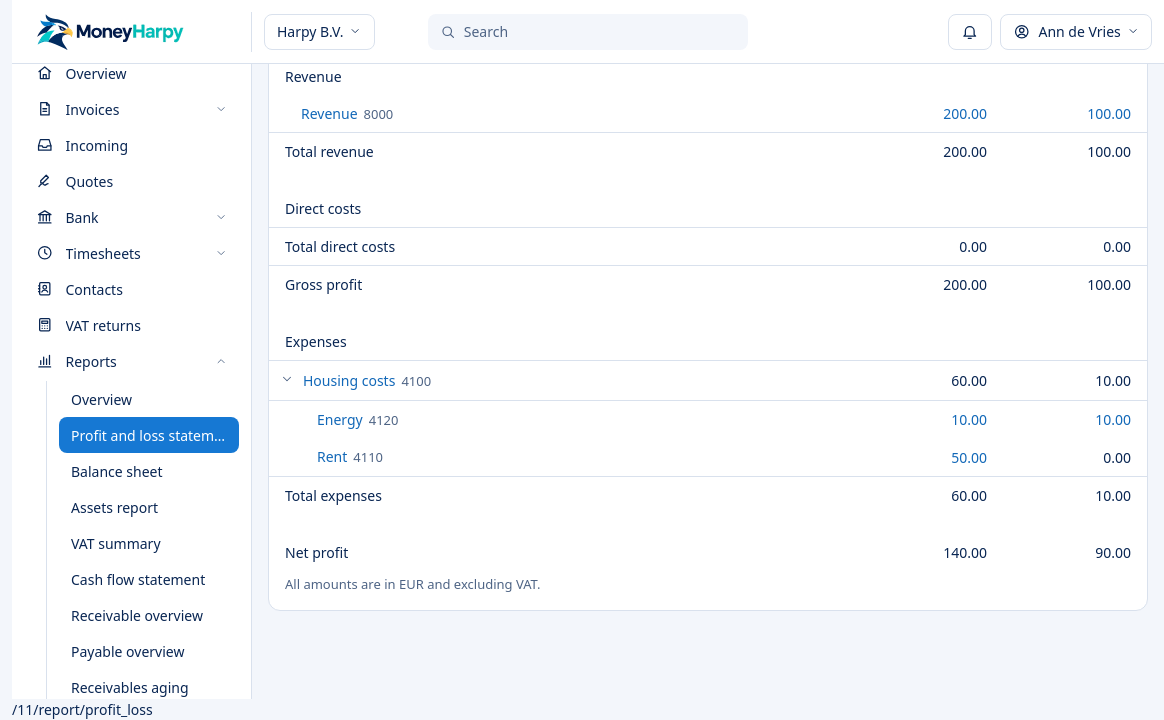
Test: reports › shows the profit and loss statement per month, categories under their top category
(page scrolled)
Expected: the row "Revenue 8000 200.00 100.00" is shown, [269,95,1147,133]
Expected: the row "Housing costs 4100 60.00 10.00" is shown, [269,361,1147,400]
Step 1. Click the button named "Collapse Housing costs" → (287, 379), box [277,369,297,389]
(page scrolled)
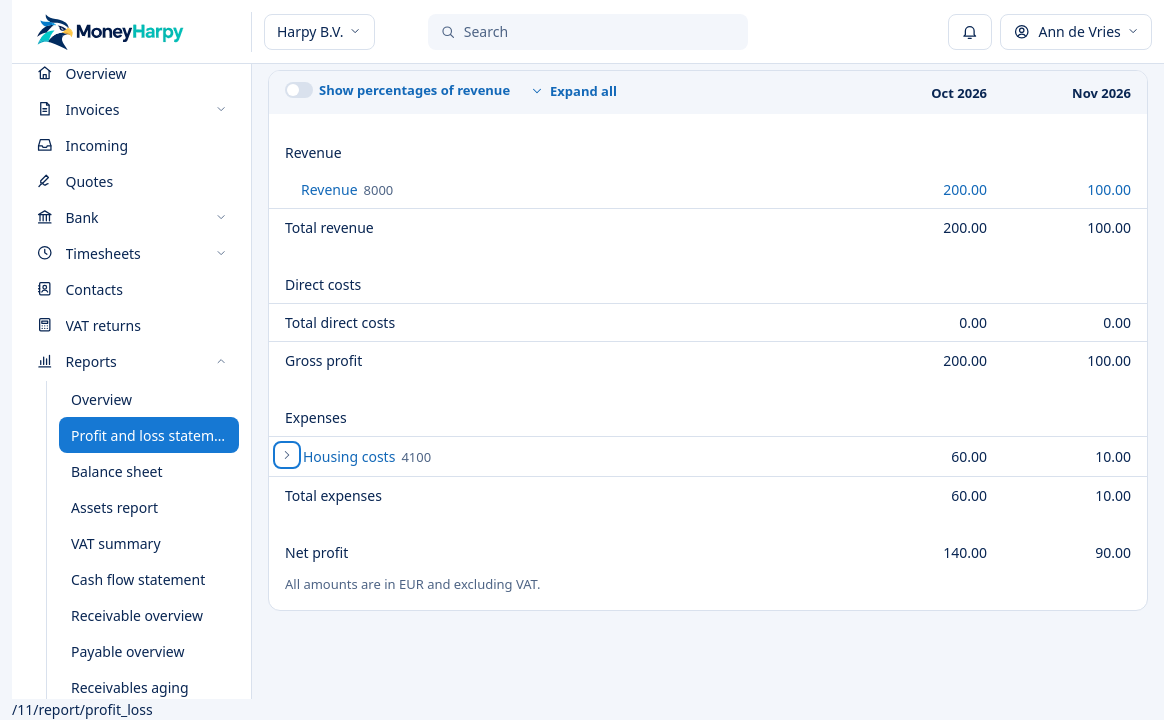
Expected: the link "Rent" is gone
Step 2. Click the button "Expand all" → (574, 91), box [530,82,617,101]
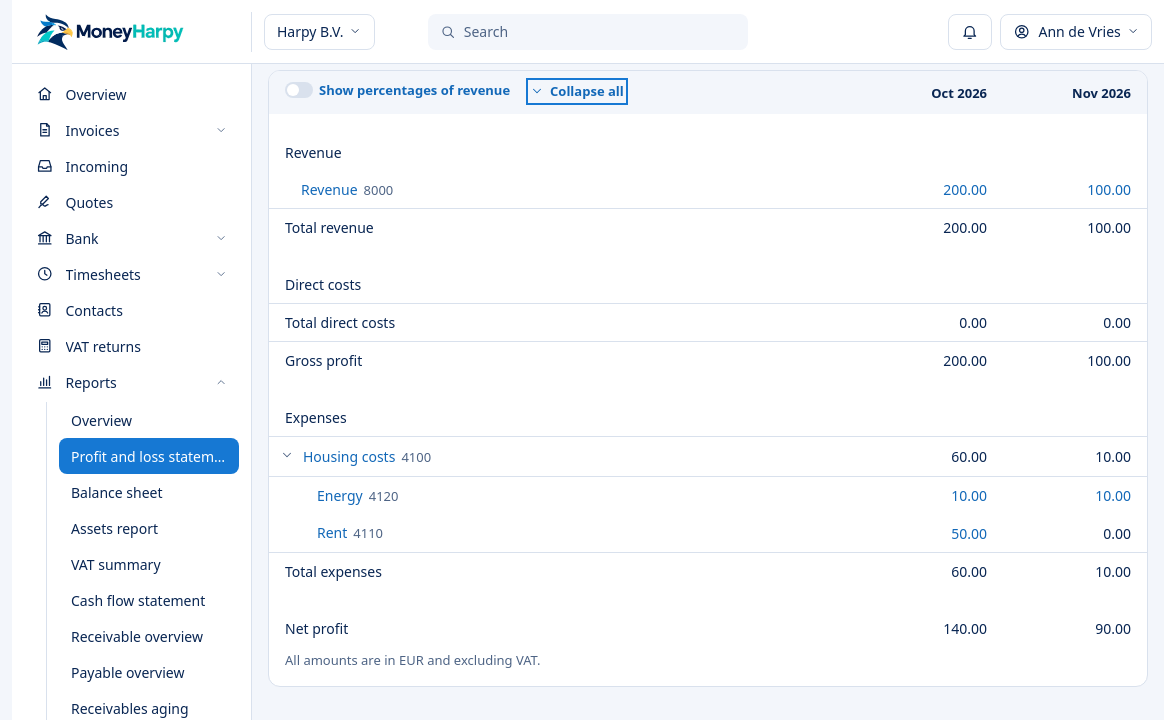
Expected: the row "Rent 4110 50.00 0.00" is shown, [269,514,1147,552]
Step 3. Click the button "Collapse all" → (577, 91), box [530,82,624,101]
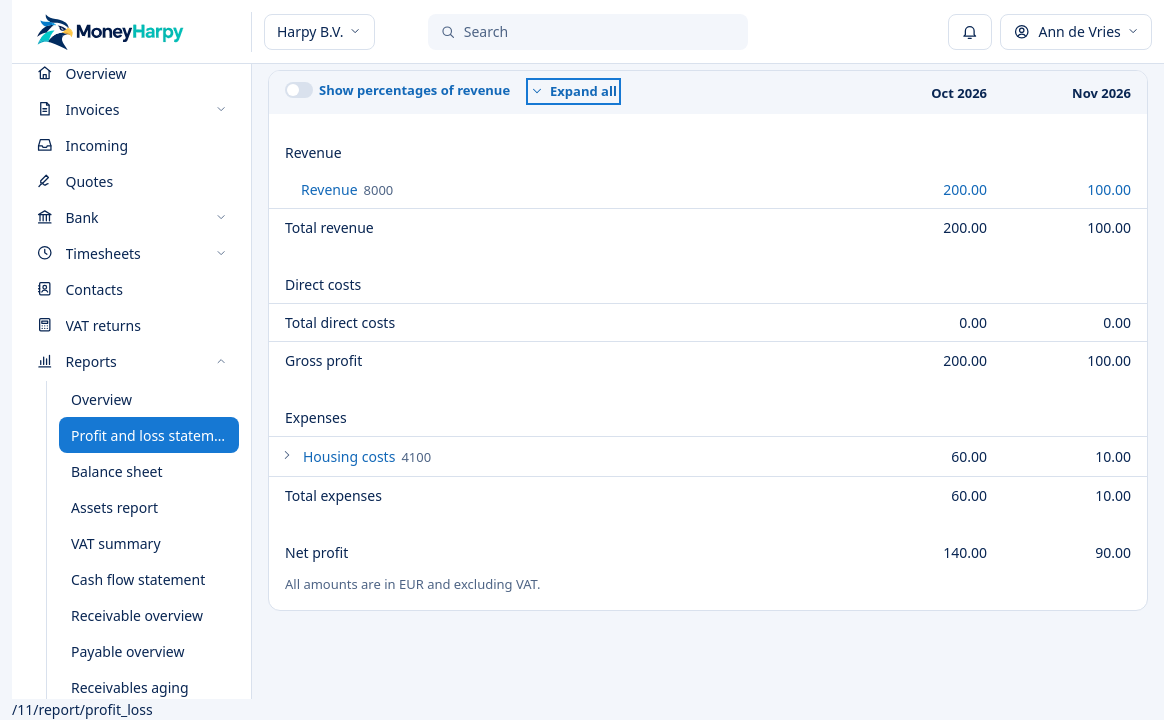
Expected: the link "Energy" is gone
